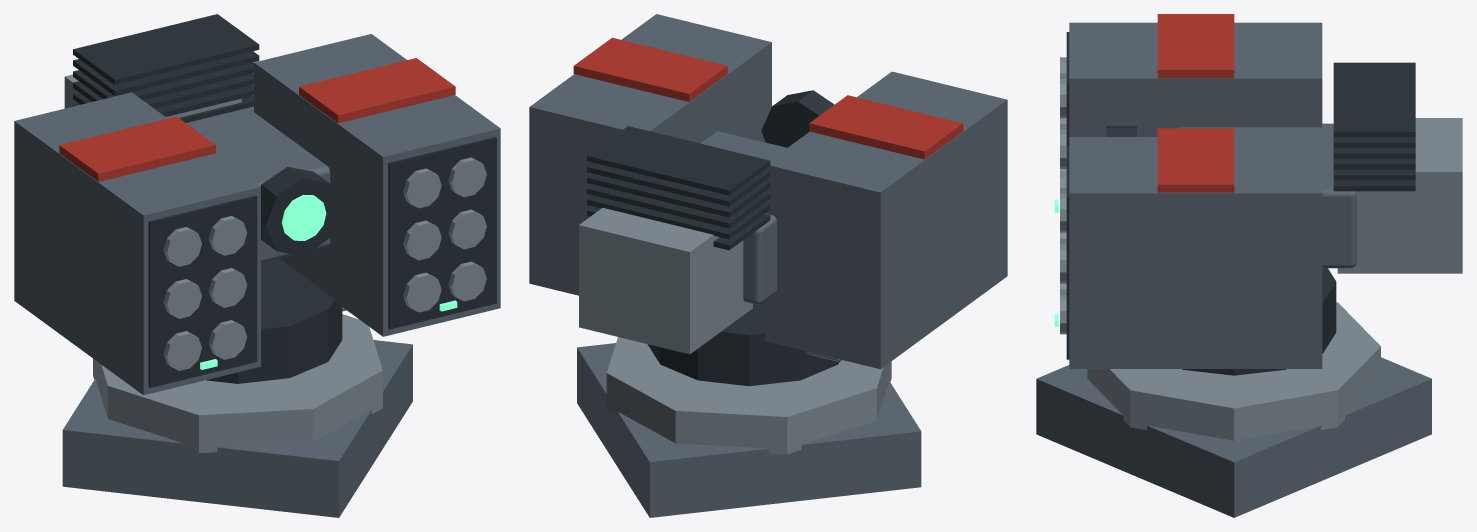
The model's file is quiver_t2_d0.glb.
3 views of the same model, side by side, from view 1: azimuth 30°, elevation 25°; view 2: azimuth 150°, elevation 25°; view 3: azimuth 270°, elevation 25° (orthographic). The views are drawn at different scales.
Visible parts, largest first — view 1: RECOIL_ARMOR_GEOMETRY, BASE_ARMOR_GEOMETRY, YAW_ARMOR_GEOMETRY, RECOIL_SIGNAL_GEOMETRY; view 2: RECOIL_ARMOR_GEOMETRY, BASE_ARMOR_GEOMETRY, YAW_ARMOR_GEOMETRY; view 3: RECOIL_ARMOR_GEOMETRY, BASE_ARMOR_GEOMETRY, YAW_ARMOR_GEOMETRY.
Part boxes in pixels (box(x1,y1,x2,y2)): RECOIL_ARMOR_GEOMETRY: box(14, 14, 500, 395); BASE_ARMOR_GEOMETRY: box(62, 314, 412, 517); YAW_ARMOR_GEOMETRY: box(206, 258, 346, 383); RECOIL_SIGNAL_GEOMETRY: box(200, 194, 457, 369); RECOIL_ARMOR_GEOMETRY: box(529, 14, 1007, 369); BASE_ARMOR_GEOMETRY: box(577, 337, 921, 517); YAW_ARMOR_GEOMETRY: box(647, 301, 841, 386); RECOIL_ARMOR_GEOMETRY: box(1060, 14, 1462, 368); BASE_ARMOR_GEOMETRY: box(1036, 302, 1431, 517); YAW_ARMOR_GEOMETRY: box(1181, 268, 1336, 375).
Size of the model in its own units: 1.58 by 1.46 by 1.67.
